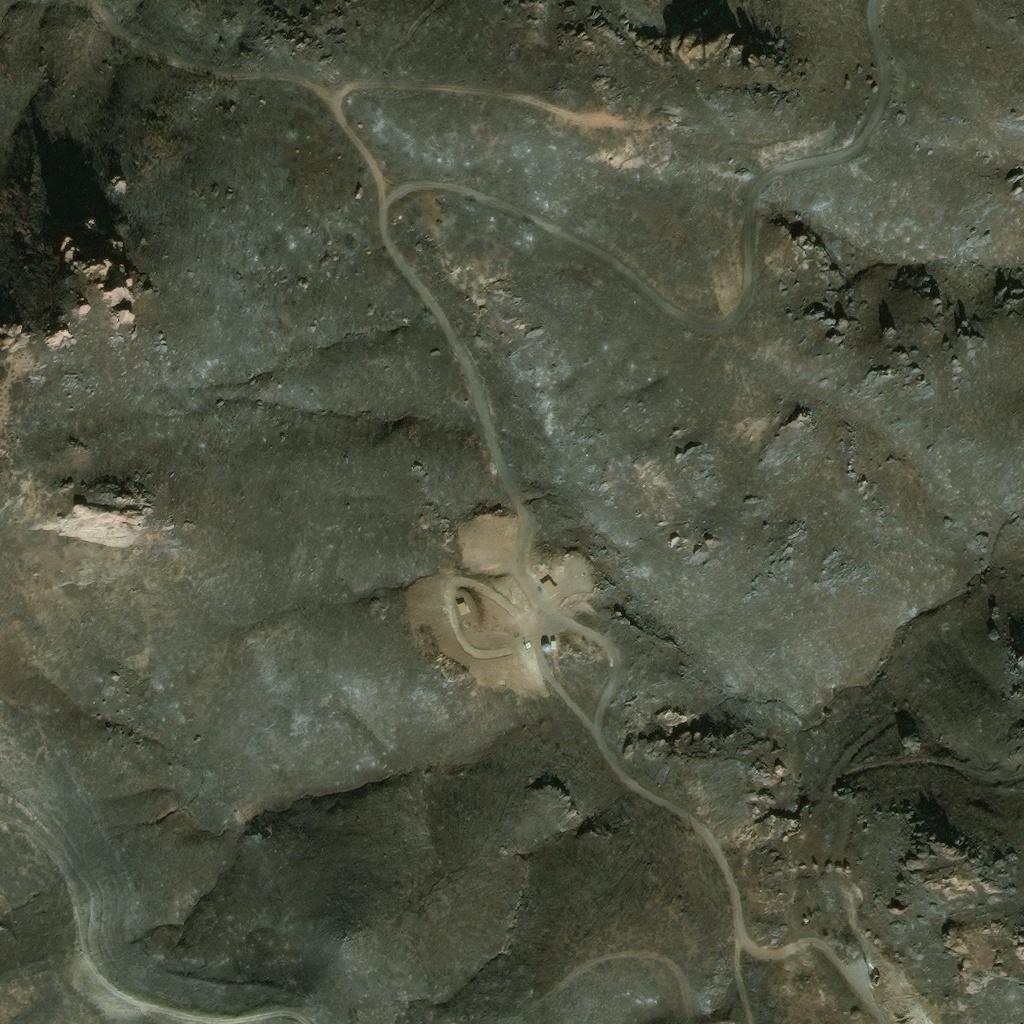0 no-damage: (542, 577, 561, 600), (456, 599, 471, 615), (542, 640, 557, 654), (525, 640, 533, 649)
1 minor-damage: (872, 972, 881, 981)
